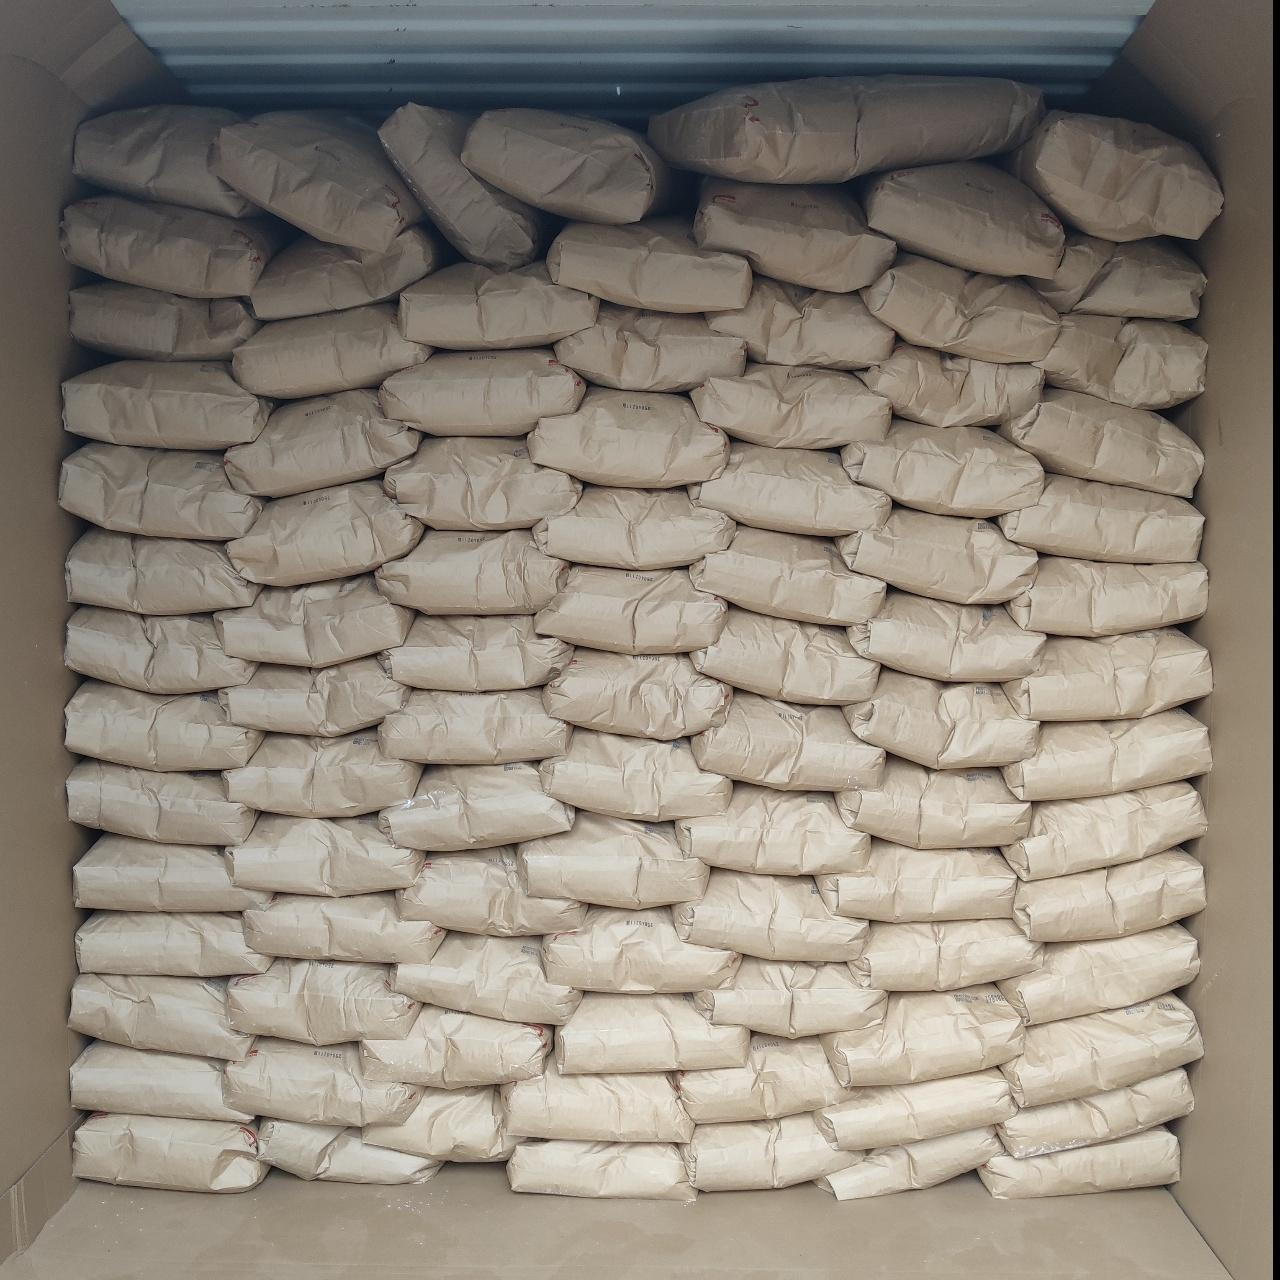sack: (652, 76, 1044, 182), (212, 113, 422, 248), (1005, 113, 1223, 238), (384, 105, 546, 263), (464, 110, 674, 222), (864, 162, 1062, 275), (64, 196, 288, 294), (998, 388, 1201, 493), (1002, 996, 1201, 1102), (696, 181, 894, 286), (862, 254, 1058, 358), (226, 390, 420, 493), (822, 986, 1022, 1084), (530, 386, 726, 486), (229, 481, 422, 583), (842, 420, 1042, 516), (76, 105, 252, 215), (1005, 782, 1204, 878), (1000, 926, 1198, 1022), (692, 692, 884, 790), (838, 508, 1036, 602), (60, 444, 260, 538), (690, 526, 884, 622), (844, 670, 1039, 765), (549, 218, 750, 309), (690, 442, 888, 535), (1005, 629, 1210, 719), (234, 304, 430, 396), (1005, 710, 1210, 798), (64, 360, 272, 445), (520, 812, 708, 906), (250, 226, 442, 318), (847, 590, 1044, 678), (692, 608, 876, 702), (216, 574, 411, 662), (838, 756, 1028, 846), (1014, 850, 1204, 940), (386, 438, 580, 526), (542, 730, 730, 821), (1000, 474, 1201, 558), (676, 784, 869, 872), (674, 870, 866, 958), (380, 350, 583, 434), (66, 680, 263, 765), (536, 566, 724, 654), (400, 264, 595, 348), (544, 906, 738, 990), (392, 934, 578, 1022), (229, 1039, 420, 1124), (1000, 1070, 1190, 1156), (66, 527, 258, 612), (708, 278, 892, 366), (546, 651, 730, 738), (556, 304, 742, 390), (66, 606, 254, 692), (229, 960, 420, 1044), (226, 730, 420, 813), (1008, 556, 1206, 636), (692, 365, 890, 445), (380, 764, 572, 847), (399, 847, 583, 934), (535, 486, 734, 566), (226, 813, 422, 894), (1034, 314, 1206, 406), (68, 760, 254, 844), (376, 530, 566, 612), (70, 974, 252, 1058), (816, 1070, 1014, 1148), (362, 1005, 550, 1085), (818, 840, 1014, 918), (1028, 232, 1204, 318), (74, 1114, 268, 1190), (696, 958, 884, 1036), (556, 994, 748, 1070), (860, 342, 1042, 422), (680, 1034, 846, 1121), (502, 1064, 690, 1141), (218, 658, 406, 734), (76, 836, 270, 910), (380, 617, 572, 690), (980, 1126, 1178, 1198), (72, 282, 258, 358), (72, 1042, 252, 1118), (380, 690, 568, 762), (244, 892, 442, 960), (850, 920, 1040, 990), (682, 1114, 858, 1189), (818, 1128, 998, 1198), (79, 912, 270, 974), (258, 1121, 438, 1182), (365, 1088, 518, 1158), (508, 1142, 694, 1198)
